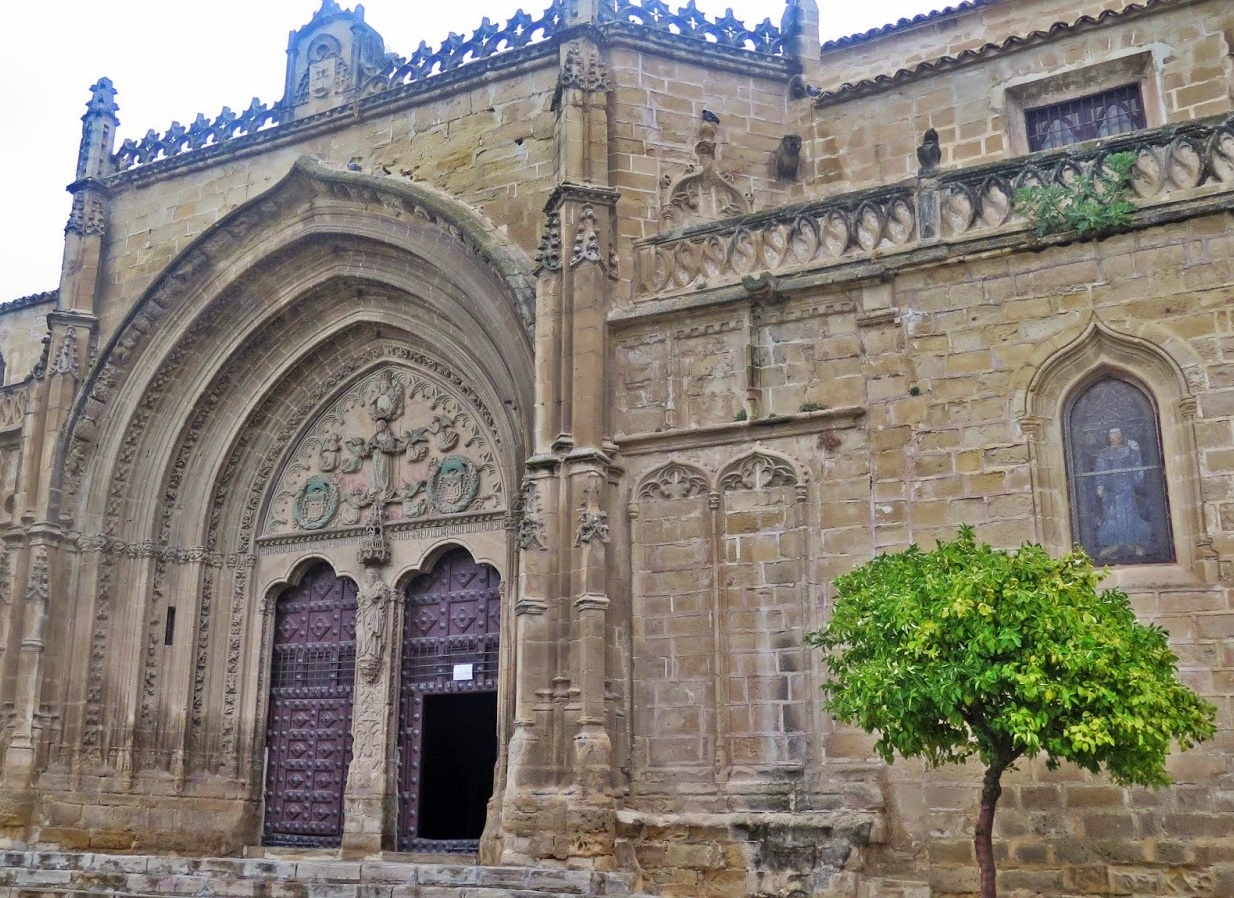arco-apuntado: (183, 225, 497, 507)
arco-conopial: (1018, 306, 1197, 404), (197, 154, 424, 220)
arco-trilobulado: (386, 534, 513, 607), (257, 548, 365, 616)
